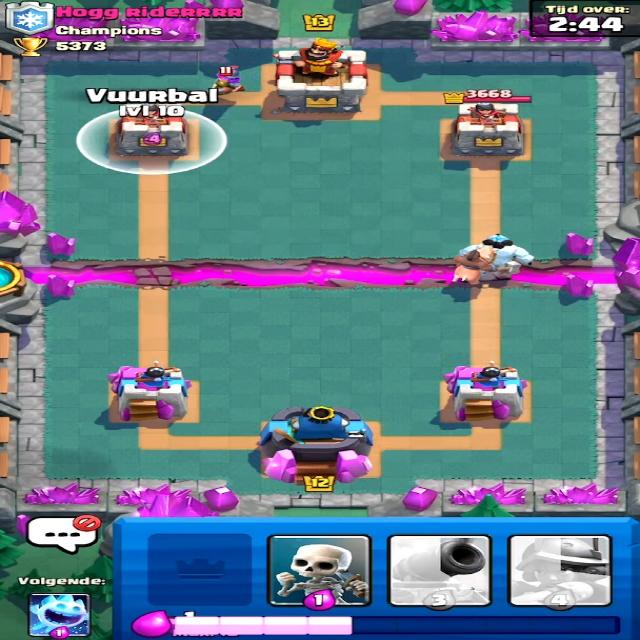Cannon_Card: (379, 533, 495, 606)
Enemy_Musketeer_Troop: (200, 67, 262, 101)
Hog_Rider_Troop: (435, 246, 518, 286)
Ice_Golem_Troop: (461, 231, 538, 285)
Musketeer_Card: (510, 535, 613, 607)
Skeleton_Card: (271, 534, 364, 607)
